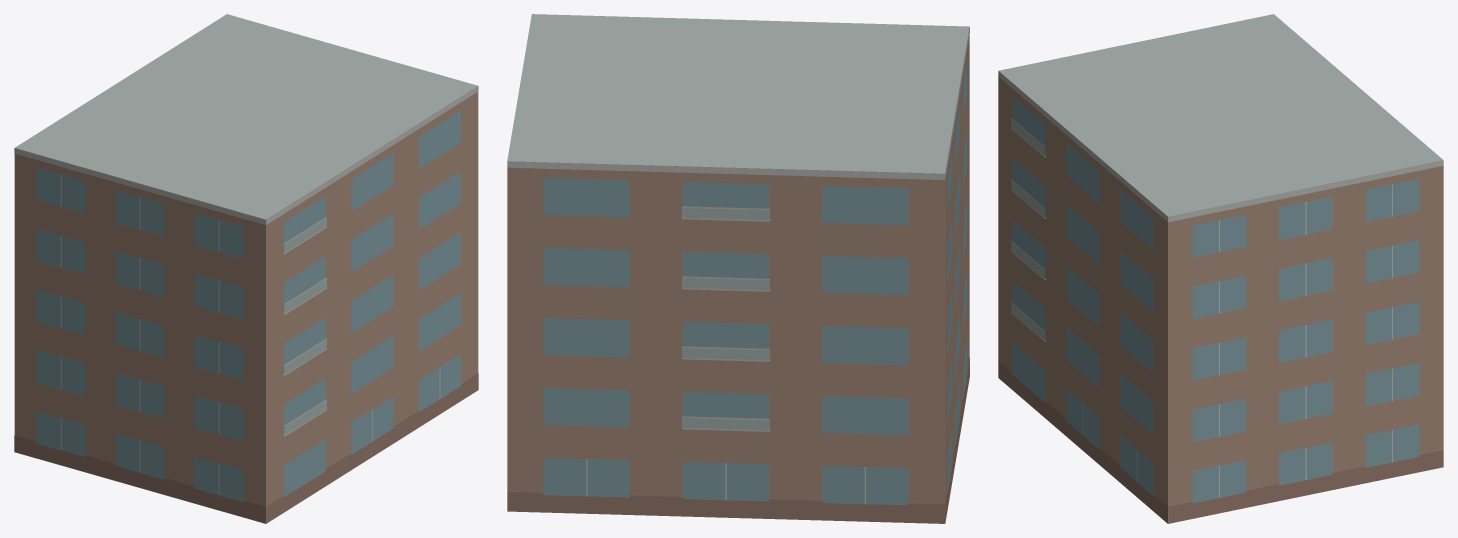
The model's file is survey-upis-32931412.glb.
3 renders of one model, left to right at view 1: azimuth 30°, elevation 25°; view 2: azimuth 150°, elevation 25°; view 3: azimuth 270°, elevation 25°, orthographic. The views are drawn at different scales.
Parts seen in each view (by area): view 1: survey-upis-32931412.tmp; view 2: survey-upis-32931412.tmp; view 3: survey-upis-32931412.tmp.
Part boxes in pixels (<box>): survey-upis-32931412.tmp: <box>14,14,478,523</box>; survey-upis-32931412.tmp: <box>507,14,969,523</box>; survey-upis-32931412.tmp: <box>998,14,1443,523</box>.
Size of the model in its own units: 18.84 by 13.3 by 17.48.
